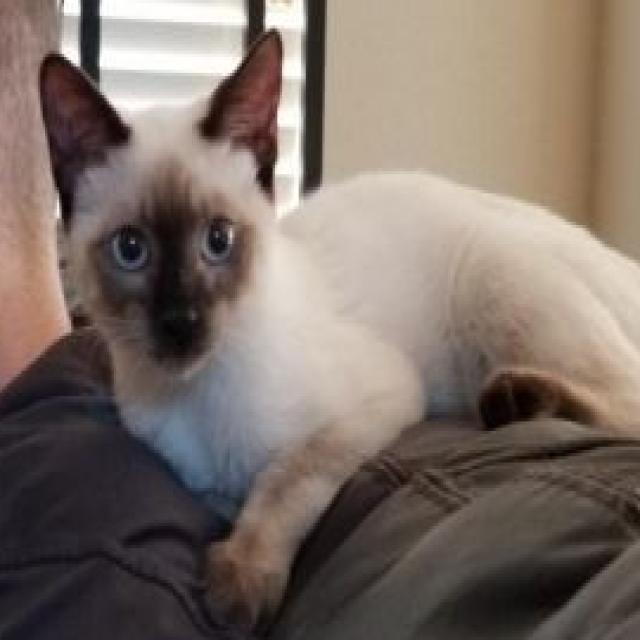Siamese: (35, 22, 640, 636)
